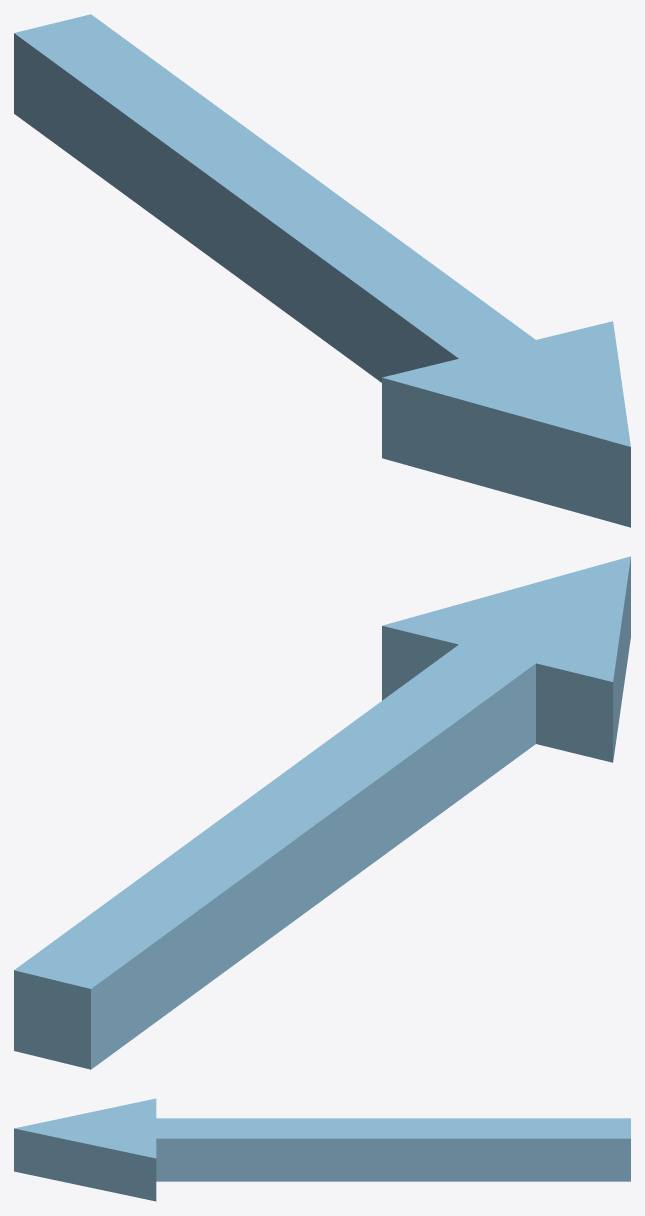
3 renders of one model, top to bottom at view 1: azimuth 30°, elevation 25°; view 2: azimuth 150°, elevation 25°; view 3: azimuth 270°, elevation 25°, orthographic. The views are drawn at different scales.
Parts seen in each view (by area): view 1: Part 1; view 2: Part 1; view 3: Part 1.
Boxes of the visible parts, x1,y1,x2,y2 form: Part 1: (14, 14, 630, 527); Part 1: (14, 556, 630, 1069); Part 1: (14, 1098, 630, 1201).
Bounding box in the file's own units: 0.0762 × 0.0254 × 0.3302.
